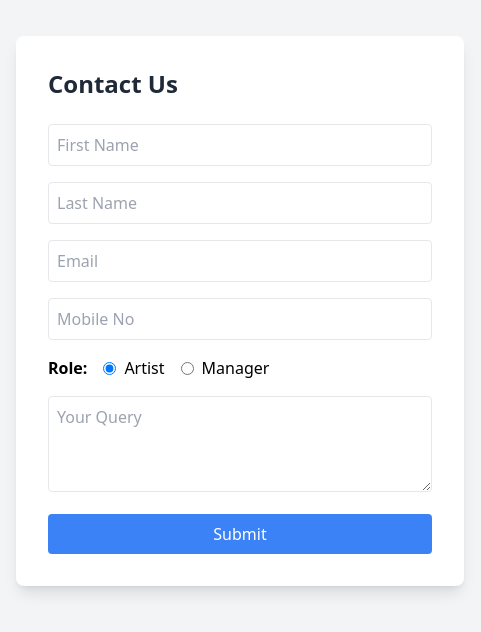
Test: ContactForm Component › displays error message when submission fails
The width and height of the screenshot is (481, 632).
Type "John" into the field with placeholder "First Name". click: (240, 145)
box: [48,124,432,166]
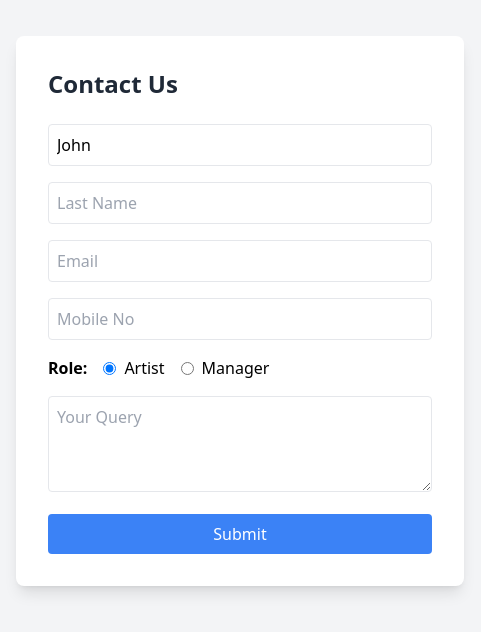
Type "Doe" into the field with placeholder "Last Name". click: (240, 203)
box: [48,182,432,224]
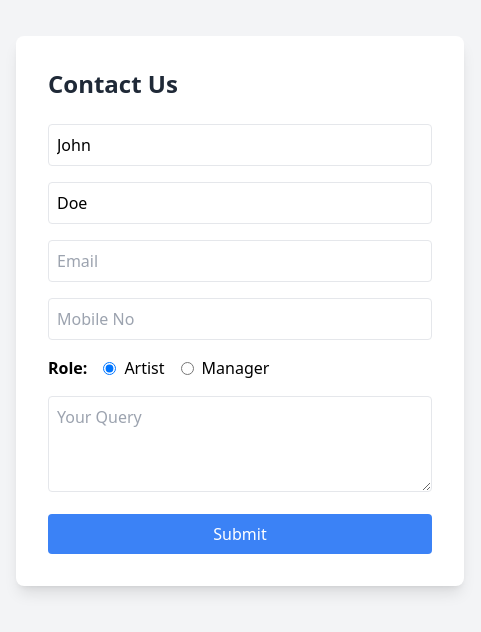
Type "john@example.com" into the field with placeholder "Email". click: (240, 261)
box: [48,240,432,282]
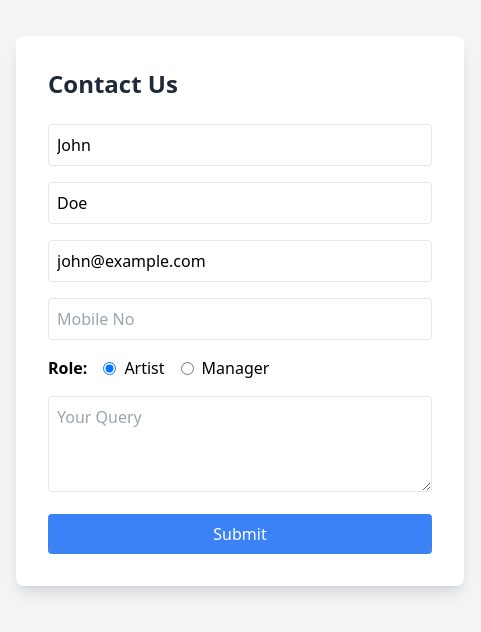
Type "1234567890" into the field with placeholder "Mobile No". click: (240, 319)
box: [48,298,432,340]
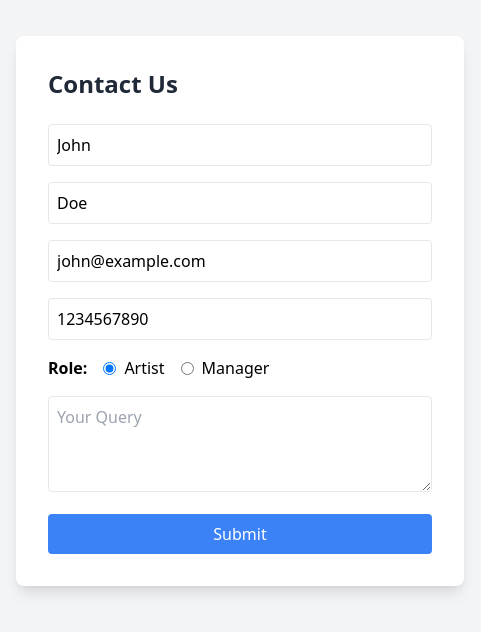
Type "This is a valid query." into the text box with placeholder "Your Query". click: (240, 444)
box: [48,396,432,492]
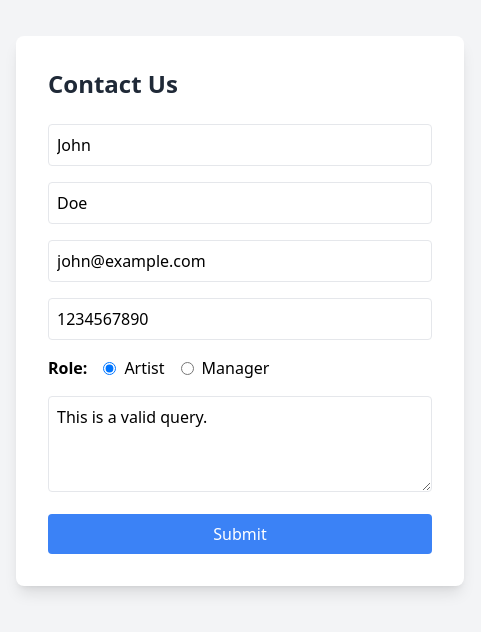
Click the button "Submit". click: (240, 534)
box: [48,514,432,554]
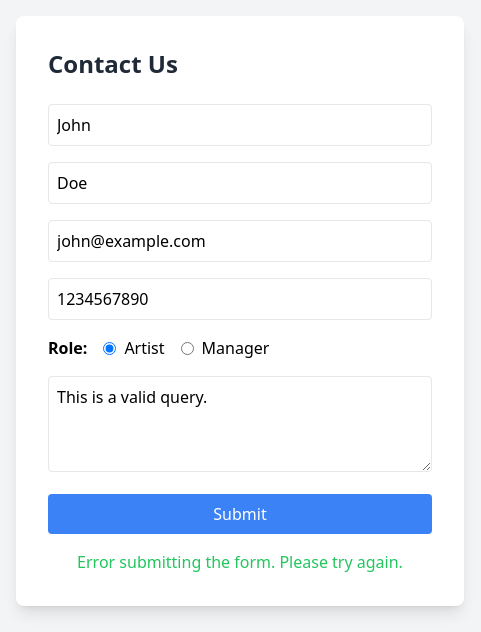
Expected: the text "Error submitting the form. Please try again." is shown, [77,551,403,573]
